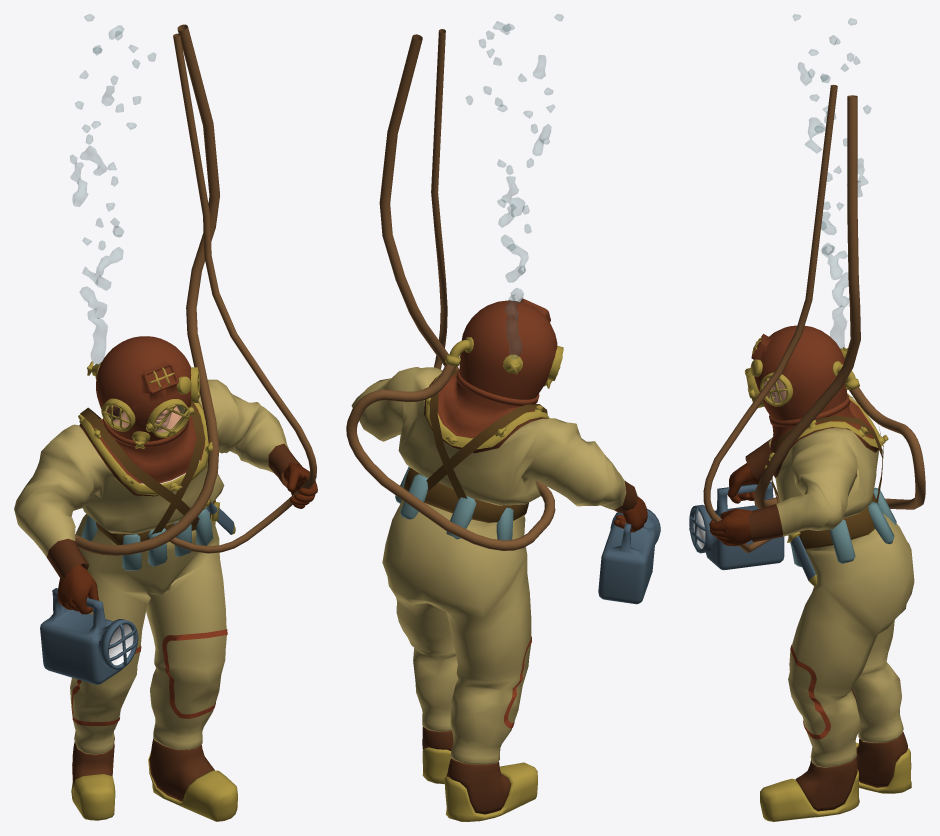
Rendered from AQUANAUT.fbx.
3 views of the same model, side by side, from view 1: azimuth 30°, elevation 25°; view 2: azimuth 150°, elevation 25°; view 3: azimuth 270°, elevation 25° (orthographic). The views are drawn at different scales.
Parts seen in each view (by area): view 1: Group1; view 2: Group1; view 3: Group1.
Boxes of the visible parts, x1,y1,x2,y2 form: Group1: (14, 14, 317, 821); Group1: (346, 14, 660, 821); Group1: (689, 14, 925, 821).
Size of the model in its own units: 1.06 by 3.03 by 0.8564.
